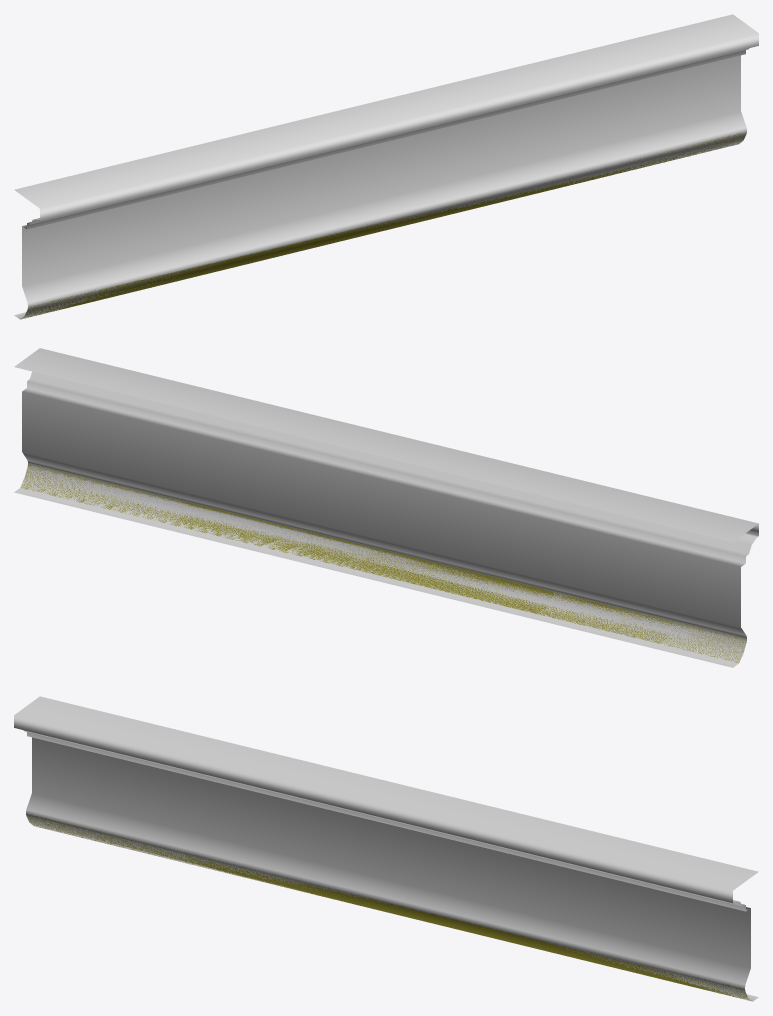
File: SM_FriezeA6m.fbx
3 renders of one model, top to bottom at view 1: azimuth 30°, elevation 25°; view 2: azimuth 150°, elevation 25°; view 3: azimuth 330°, elevation 25°, orthographic.
Parts seen in each view (by area): view 1: SM_FriezeA6m; view 2: SM_FriezeA6m; view 3: SM_FriezeA6m.
Boxes of the visible parts, x1,y1,x2,y2 form: SM_FriezeA6m: (14, 14, 758, 319); SM_FriezeA6m: (14, 348, 758, 667); SM_FriezeA6m: (14, 696, 758, 1001).
Size of the model in its own units: 600 by 100 by 37.5.
